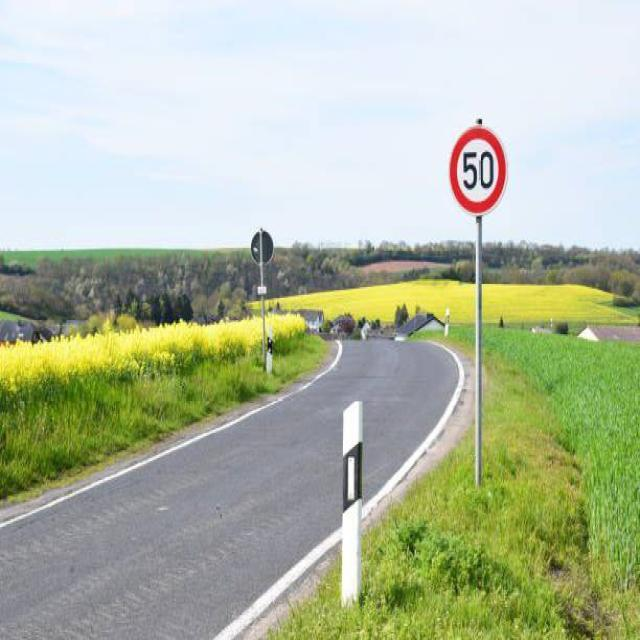speed limit 50: (446, 124, 513, 217)
